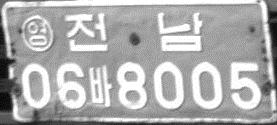0: (190, 61, 223, 111), (152, 61, 185, 109), (20, 63, 51, 109)
5: (229, 61, 261, 110)
6: (55, 61, 87, 109)
8: (115, 60, 147, 110)
바: (87, 64, 113, 108)
영: (20, 15, 53, 53)
전남_D: (63, 12, 203, 53)
